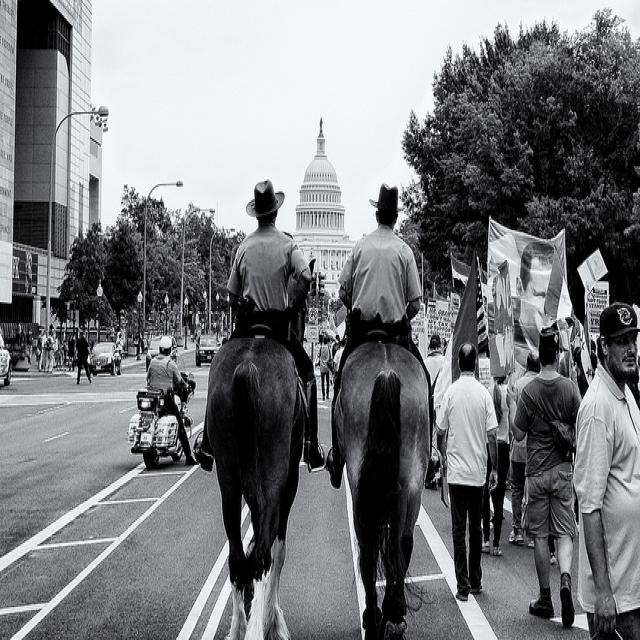motor: (126, 372, 194, 470)
